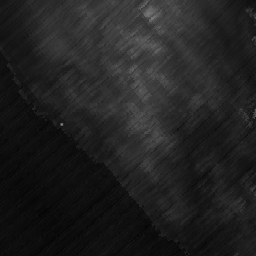Target: (58, 121, 64, 127)
